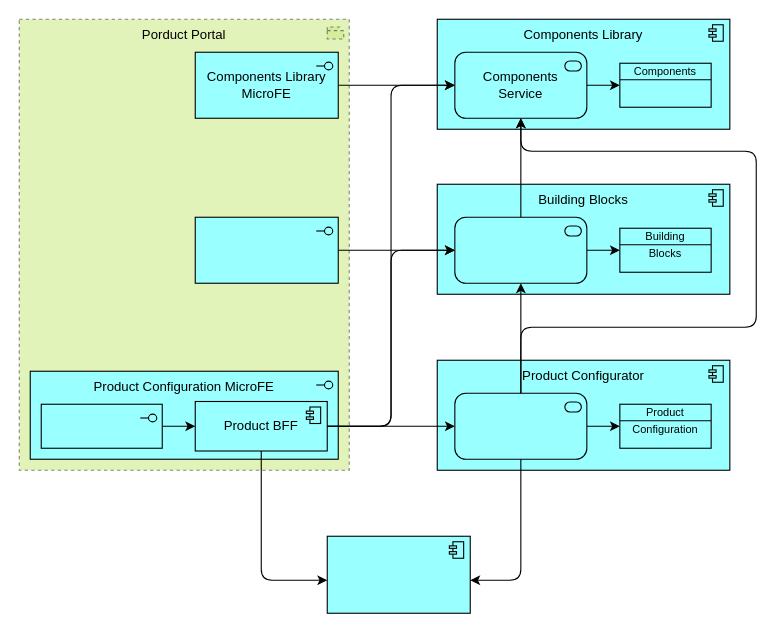
The diagram is 784 pixels wide and 633 high, and some of its shapes have lost their labels. Here are the shapes that lost their labels. From the top down, the centre of each, then its label:
At point 266,249: "Building Blocks MicroFE".
At point 520,249: "Building Blocks Service".
At point 101,425: "Product UI".
At point 520,425: "Product Configurator Service".
At point 398,574: "Authorization Service".
